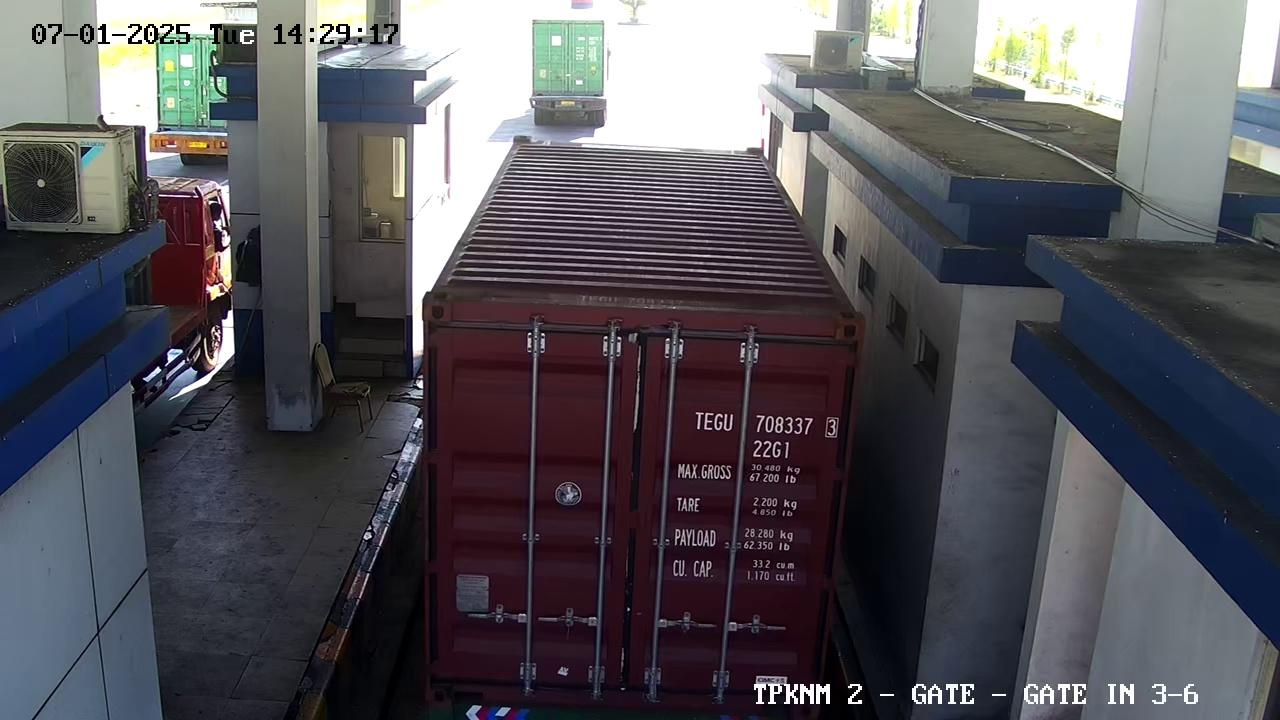Container_ID: (686, 406, 840, 440)
